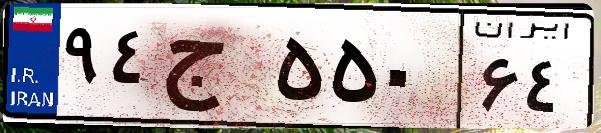0: (385, 28, 445, 110)
4: (525, 38, 570, 115), (110, 28, 158, 98)
5: (270, 28, 330, 110), (330, 28, 385, 110)
6: (475, 38, 525, 113)
9: (57, 26, 110, 100)
ج: (158, 20, 270, 120)
